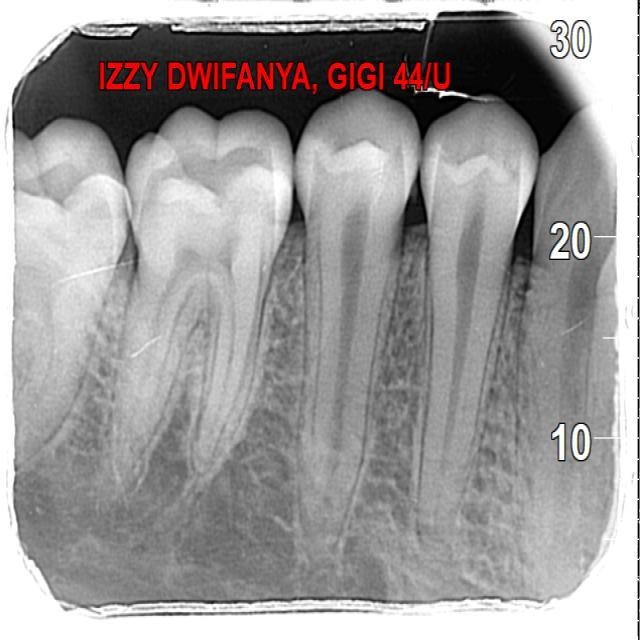individual-tooth-8tto: (104, 104, 293, 488), (292, 86, 423, 557), (415, 94, 540, 537)
